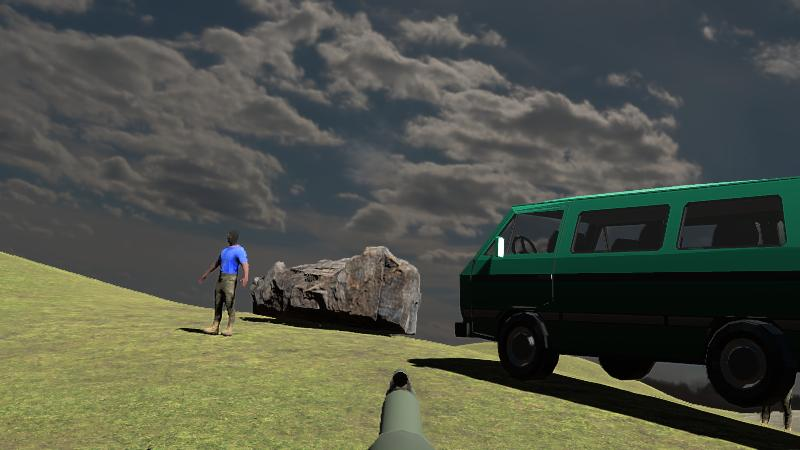Human: (200, 230, 248, 337)
car: (458, 179, 800, 408)
